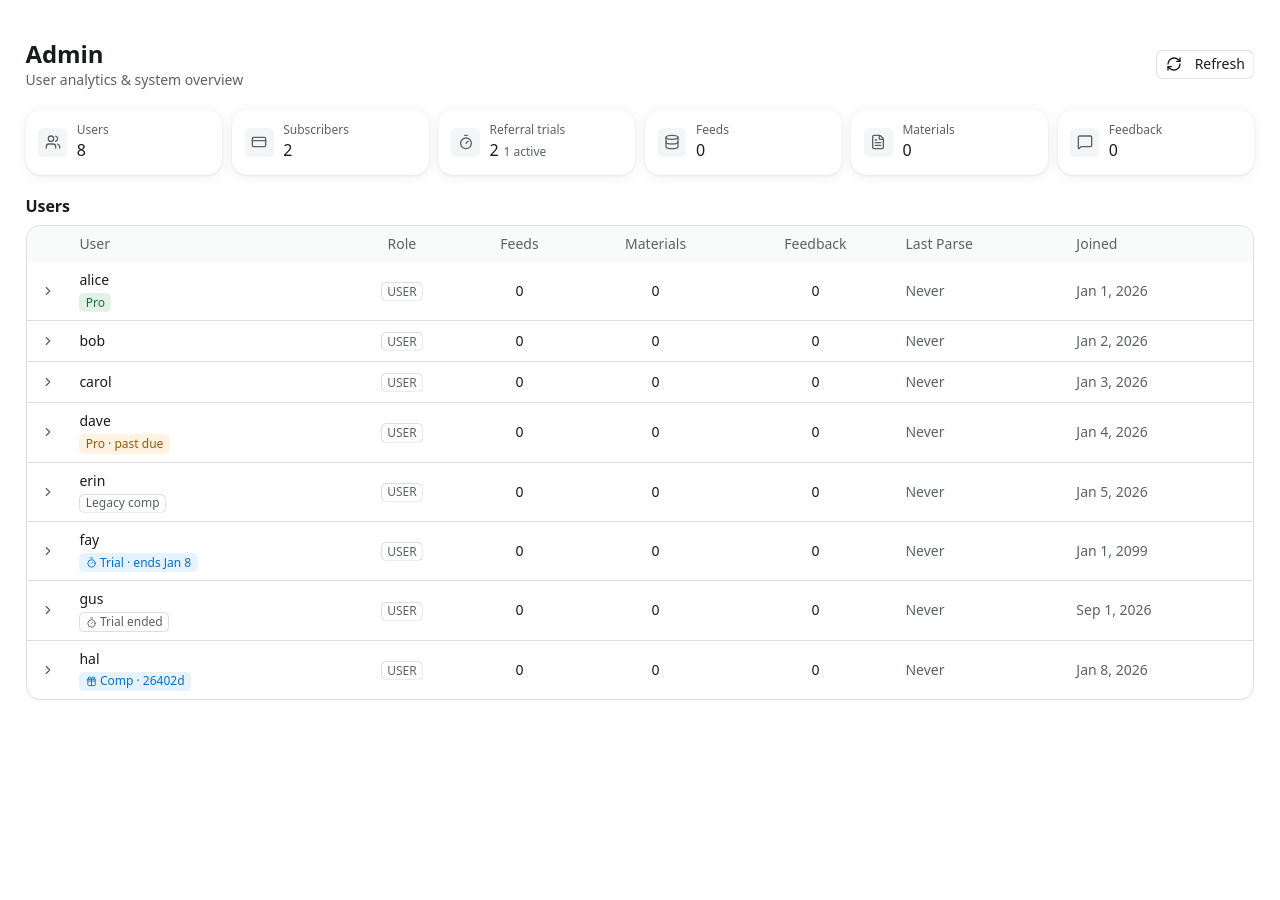
Test: AdminDashboard — paid subscriptions › expands an active subscriber into the plan summary and Stripe id
expect the text "alice" is shown: met, box [79,270,109,289]
Click the button named "Expand user details" next to "alice" at (48, 291), box [36,279,60,303]
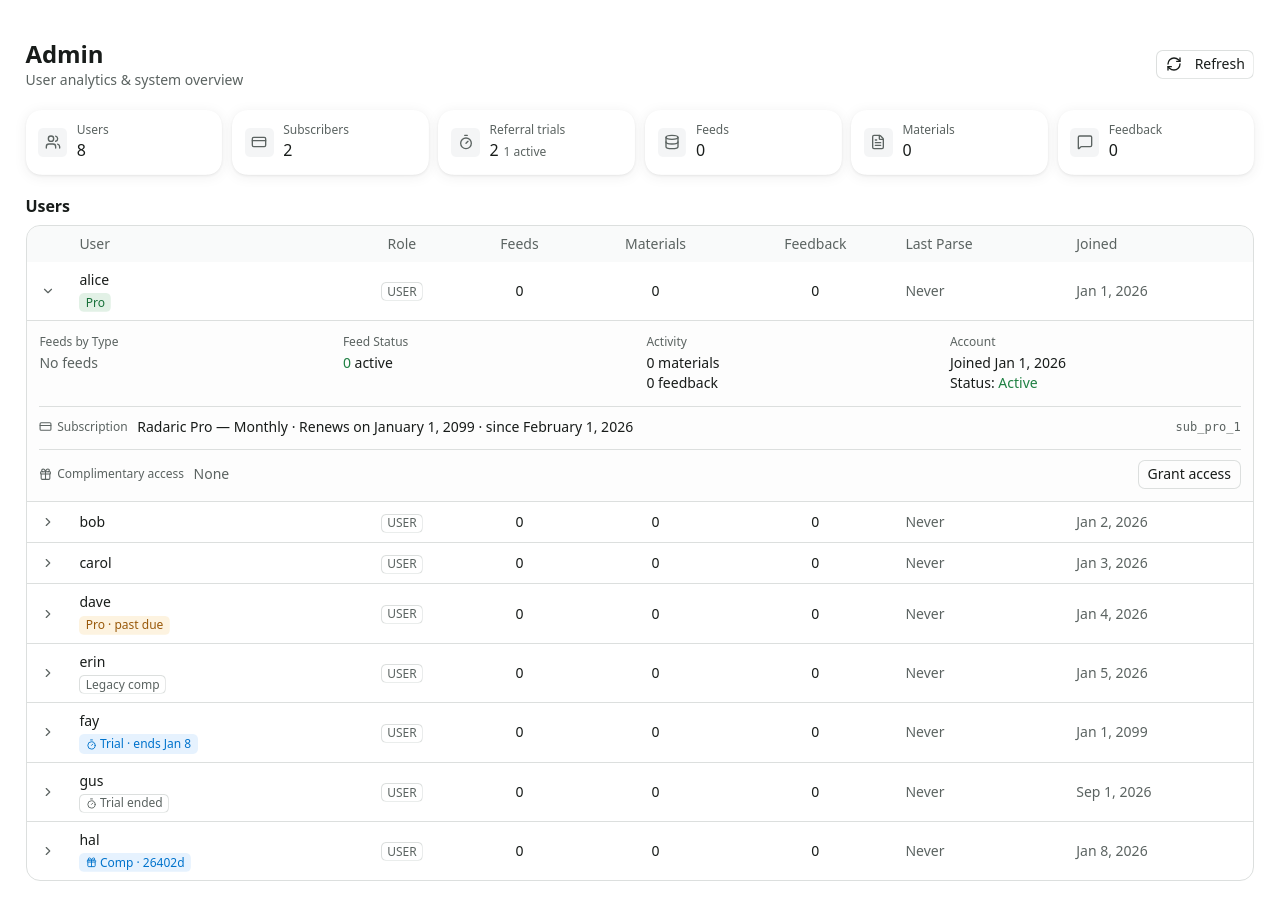
expect the text "Radaric Pro — Monthly · Renews on January 1, 2099 · since February 1, 2026" is shown: met, box [137,416,633,436]
expect the text "sub_pro_1" is shown: met, box [1176,418,1241,434]
